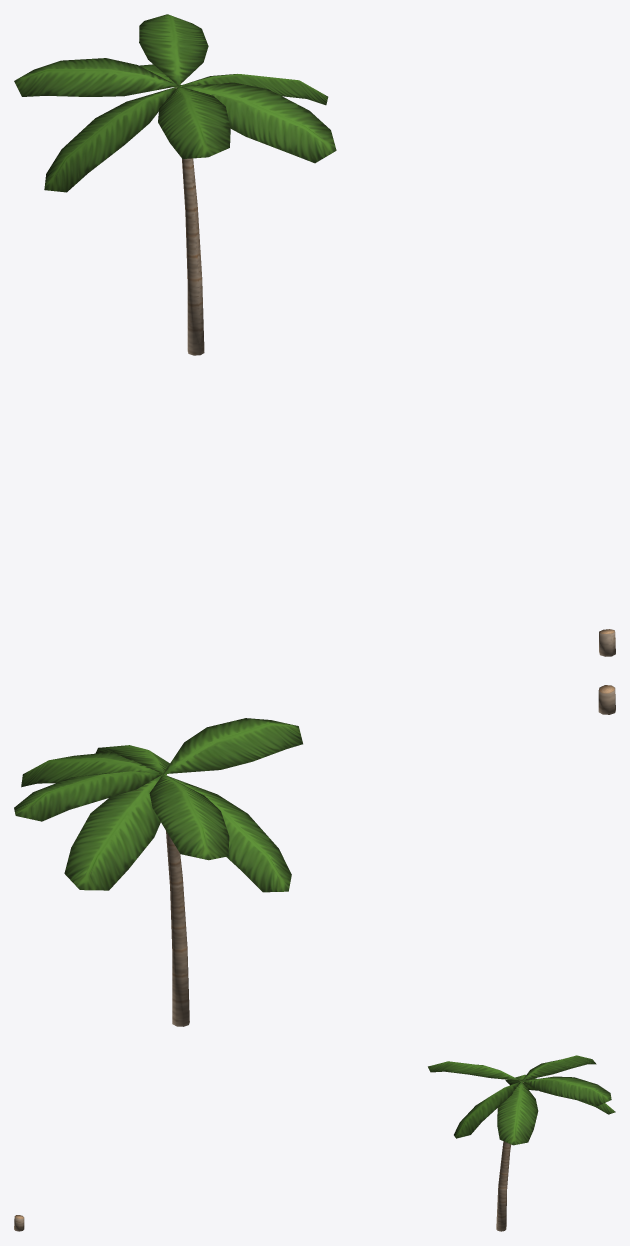
Rendered from Palm Tree1.2.fbx.
3 views of the same model, one above another, from view 1: azimuth 30°, elevation 25°; view 2: azimuth 150°, elevation 25°; view 3: azimuth 270°, elevation 25° (orthographic). The views are drawn at different scales.
Parts seen in each view (by area): view 1: Palm Tree Base; view 2: Palm Tree Base, Palm Tree Base.001; view 3: Palm Tree Base.
Part boxes in pixels (box(x1,y1,x2,y2)): Palm Tree Base: box(14, 14, 336, 355); Palm Tree Base: box(14, 718, 302, 1026); Palm Tree Base.001: box(598, 685, 615, 714); Palm Tree Base: box(428, 1055, 615, 1231).
Size of the model in its own units: 1252 by 1188 by 4120.
